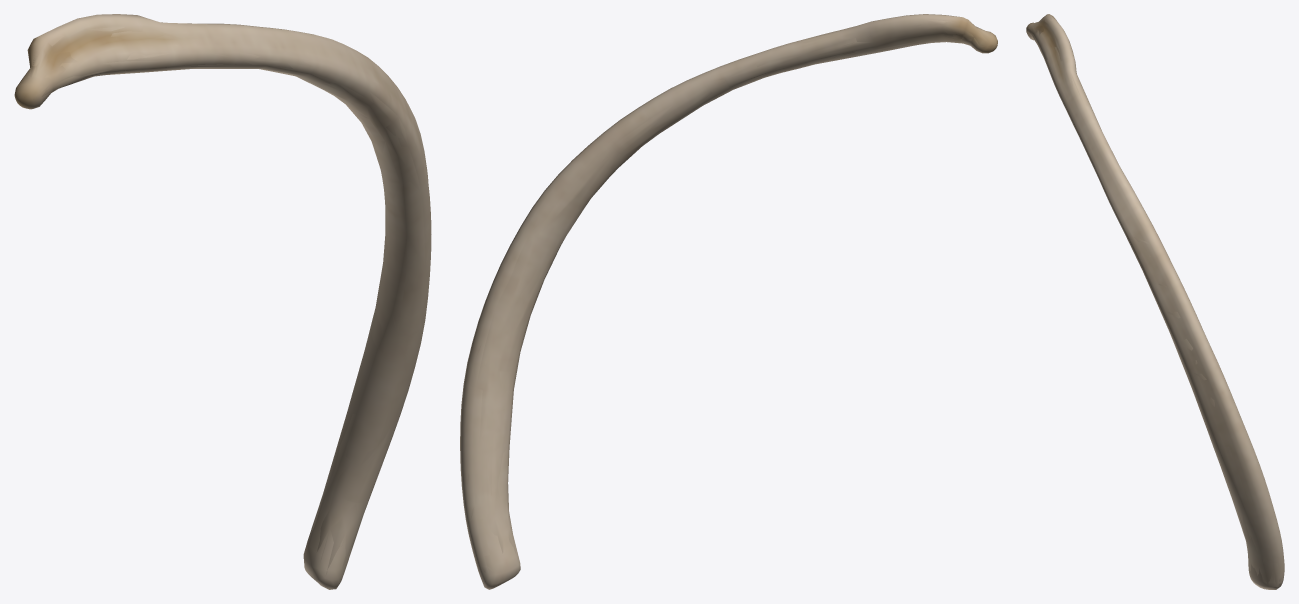
Rendered from Rib L14.fbx.
The picture shows the model from 3 angles, left to right: view 1: azimuth 30°, elevation 25°; view 2: azimuth 150°, elevation 25°; view 3: azimuth 270°, elevation 25°; orthographic projection. The views are drawn at different scales.
Visible parts, largest first — view 1: Rib L14, Rib L14 low; view 2: Rib L14 low, Rib L14; view 3: Rib L14, Rib L14 low.
Part boxes in pixels (box(x1,y1,x2,y2)): Rib L14: box(14, 14, 431, 589); Rib L14 low: box(15, 17, 430, 588); Rib L14 low: box(466, 14, 996, 588); Rib L14: box(460, 14, 997, 589); Rib L14: box(1026, 14, 1284, 589); Rib L14 low: box(1026, 14, 1282, 587).
Size of the model in its own units: 26.78 by 35.19 by 18.57.
1 material, 1 textured.
